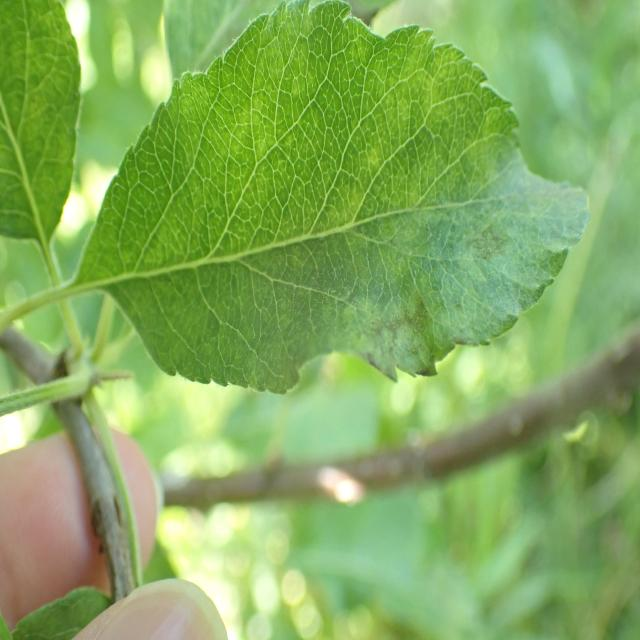scab: (104, 75, 541, 398)
